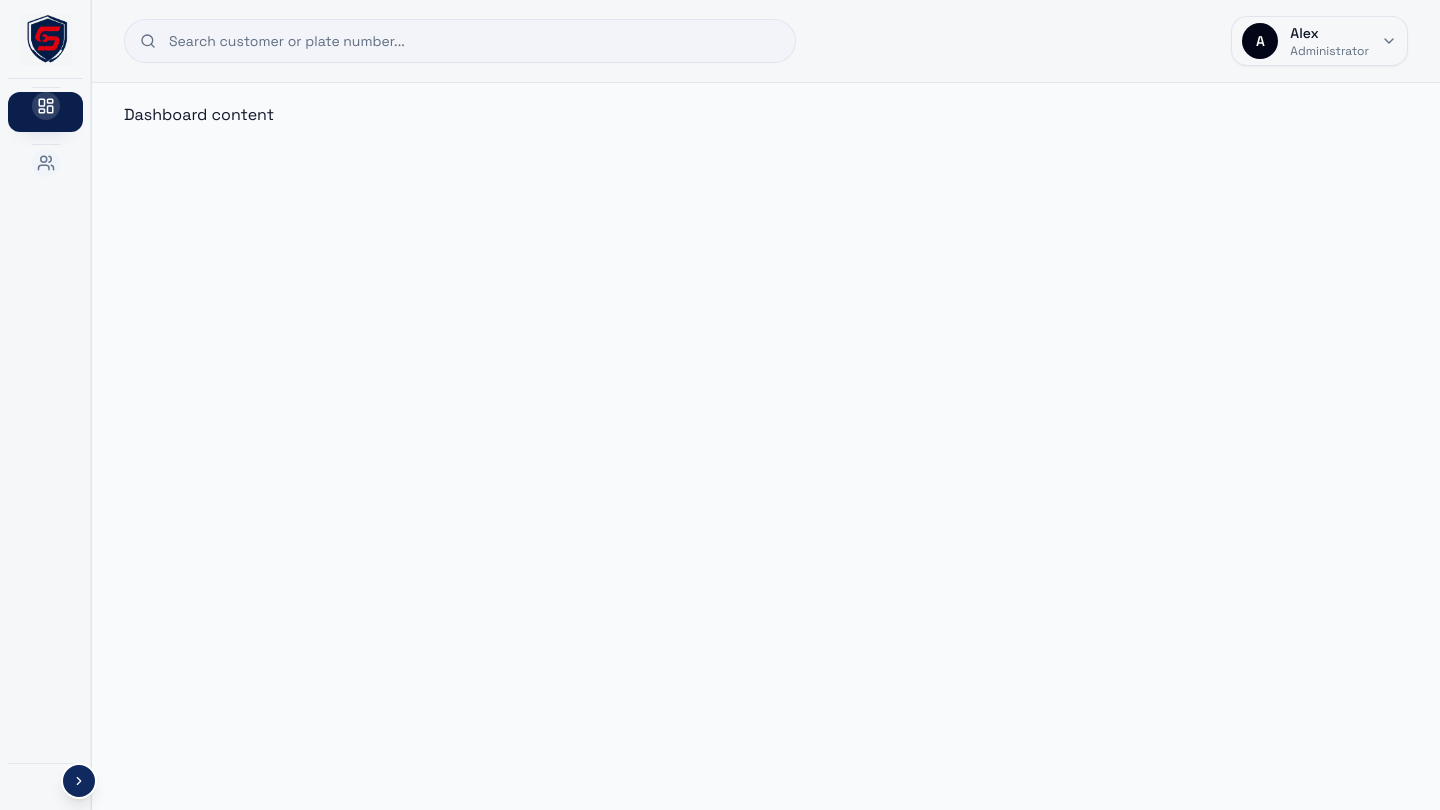
Test: AppShell › defaults to a collapsed sidebar on tablet widths but still allows expanding
Check: the text "Customers" is not shown
Click the button named "Expand sidebar": (79,781) [61,763,97,799]
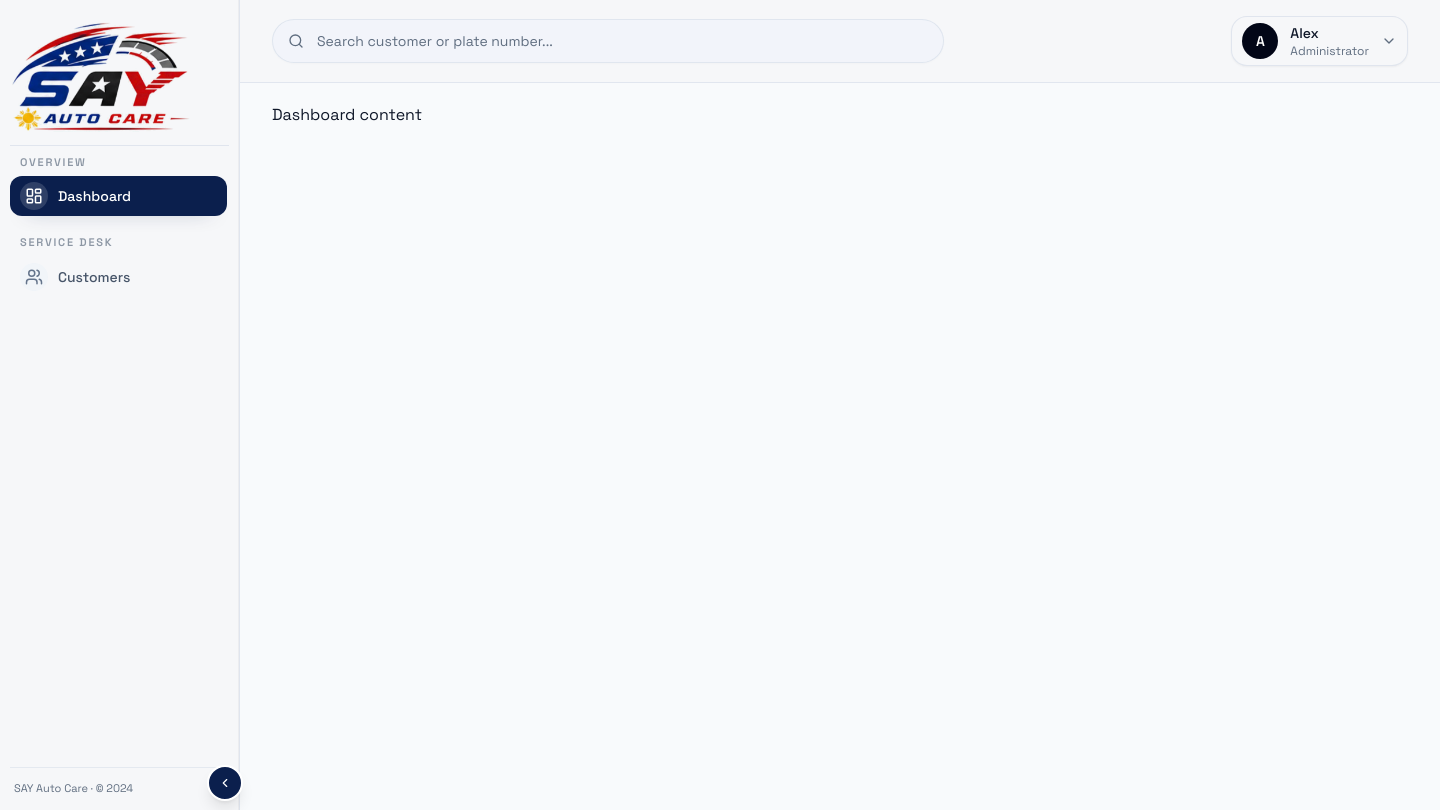
Check: the button named "Collapse sidebar" is shown, box [207,765,243,801]
Check: the text "Customers" is shown, box [58,270,130,284]
